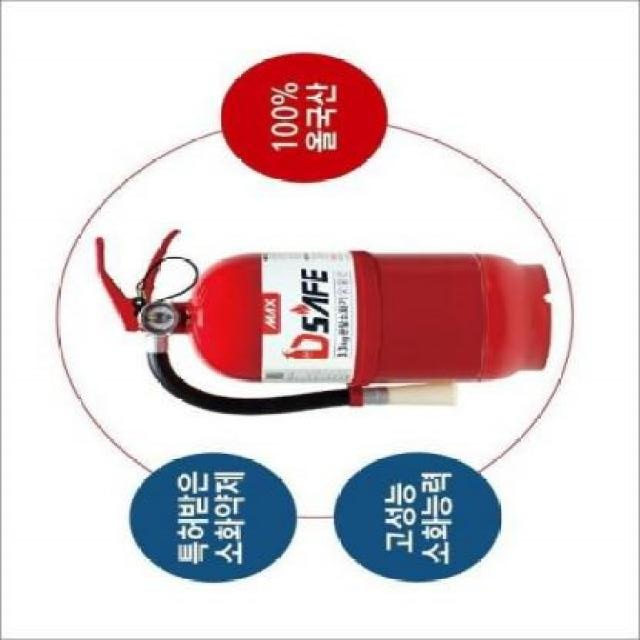fire extinguisher: (93, 229, 553, 417)
